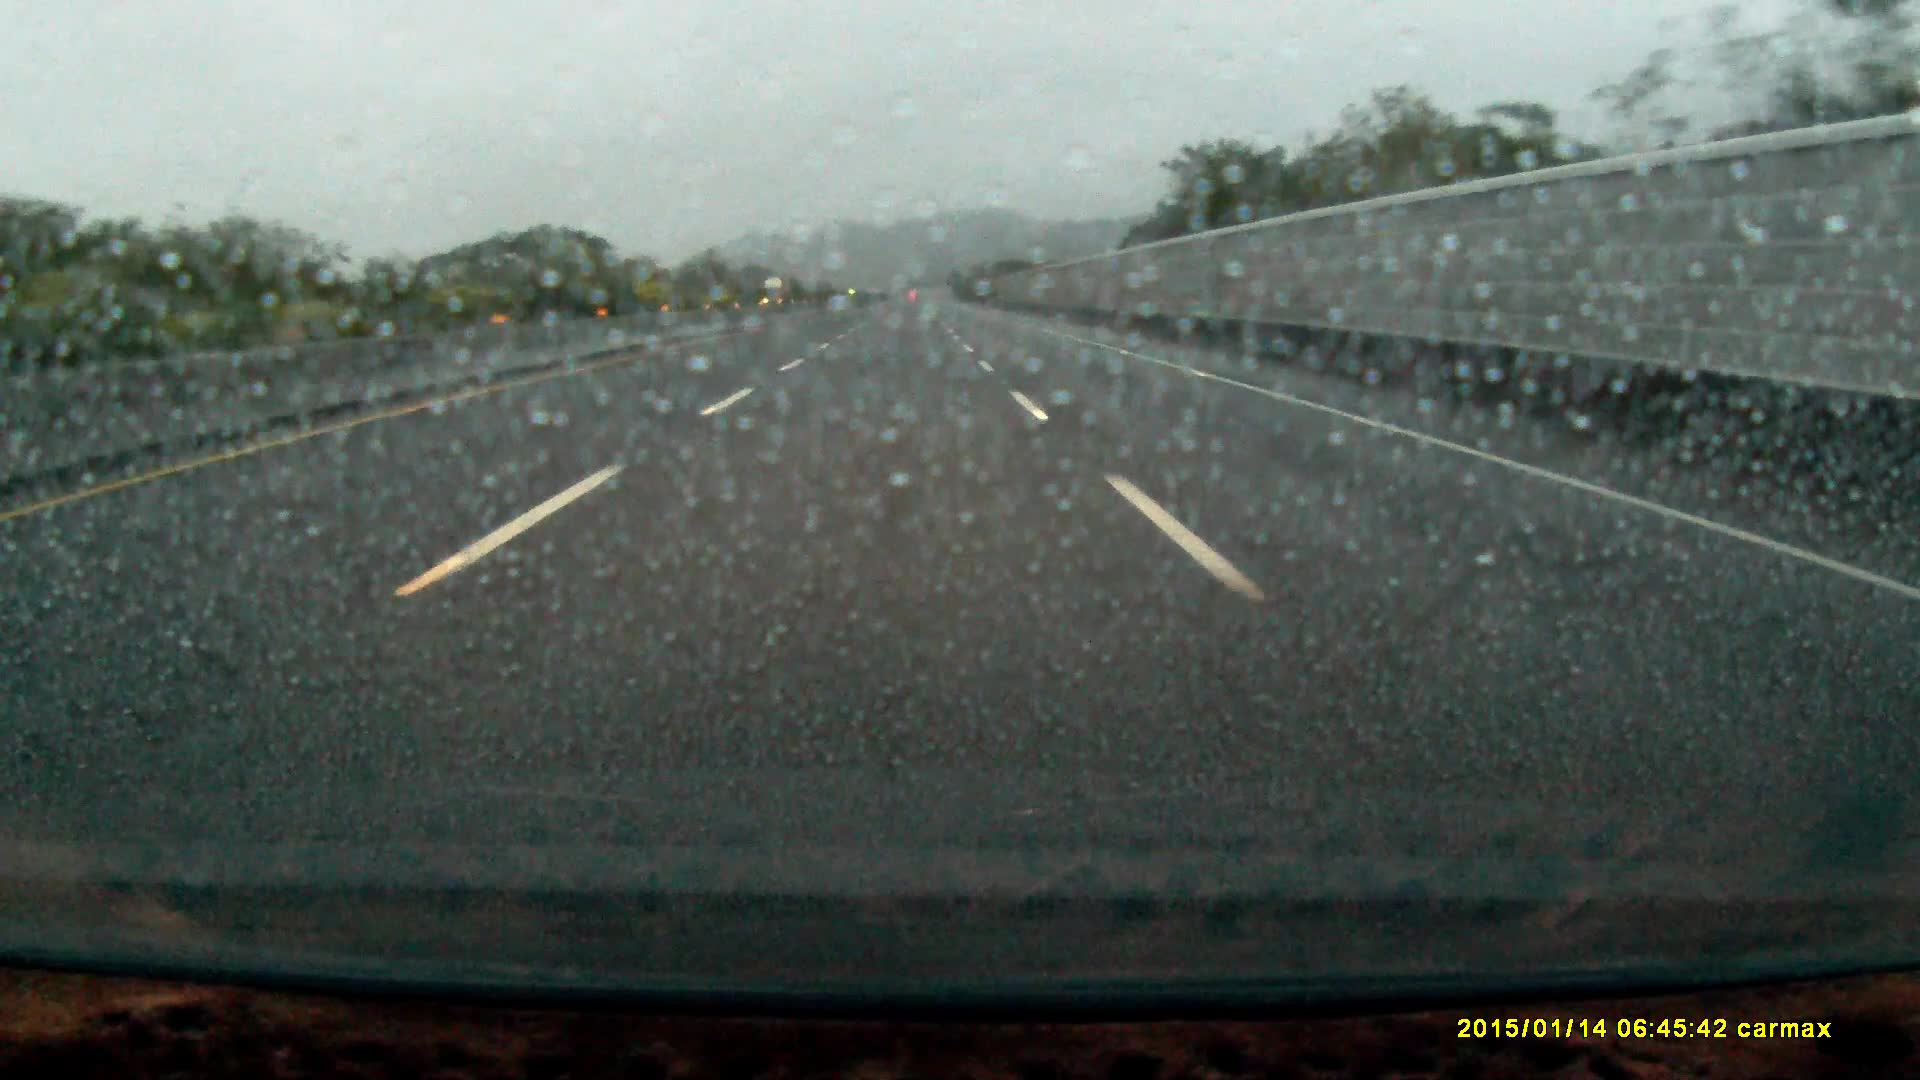vehicle: (764, 280, 790, 307)
